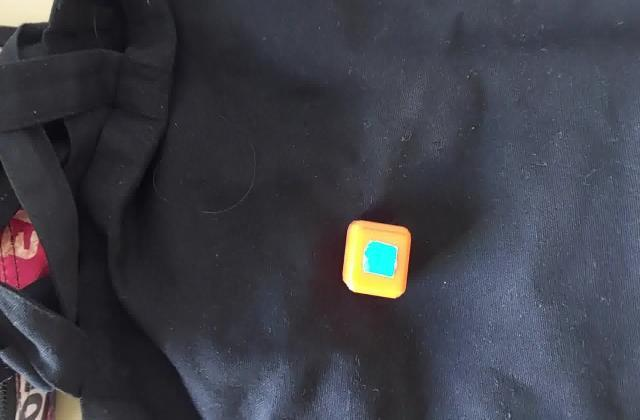blue: (368, 245, 394, 271)
sticker: (340, 219, 414, 304)
